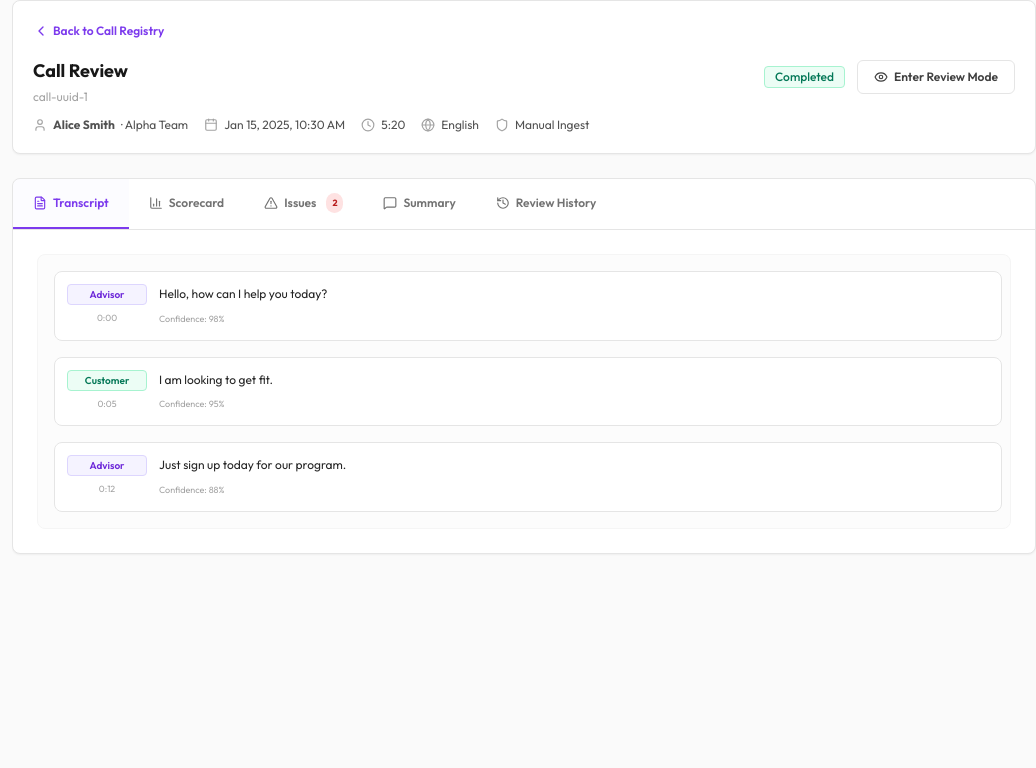
Test: Phase 3 — Call Operations & Review Tests › 15. Original vs effective scores render correctly on scorecard tab
Expected: the text "Alice Smith" is shown, [53,117,115,133]
Click scorecard tab
What coordinates should you click on to do the following:
click the button "Scorecard"
I would click on:
 (186, 204)
Its box is [129,179,244,229].
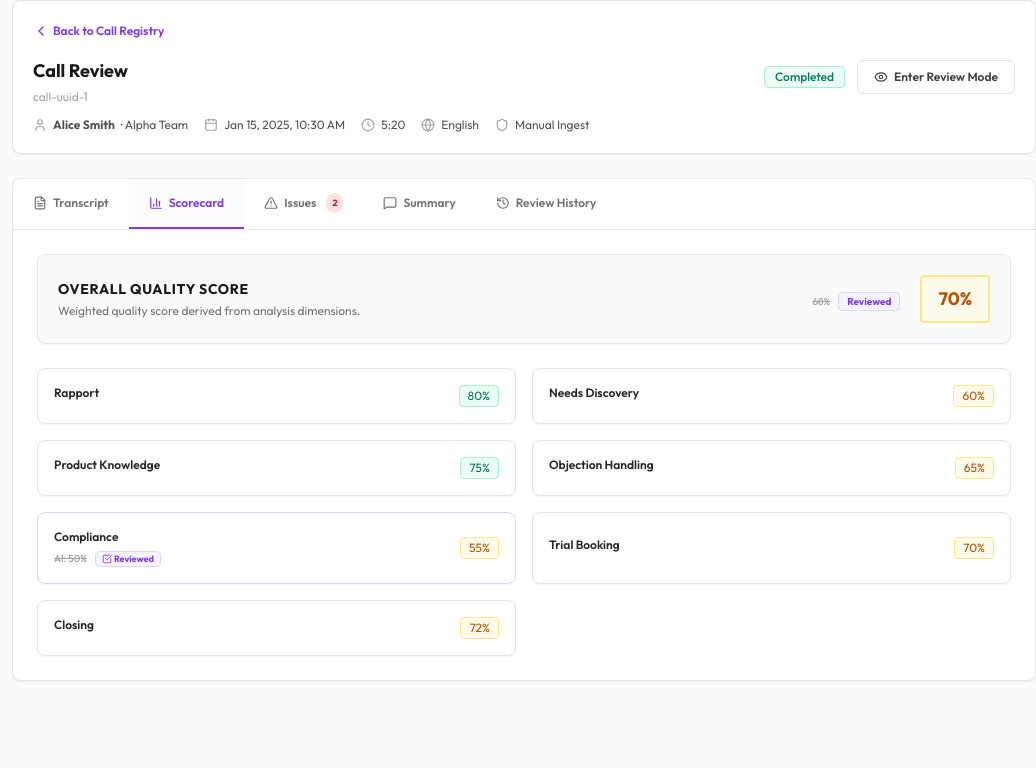
Expected: the text "70%" in the row of "68" is shown, [920,275,990,323]
